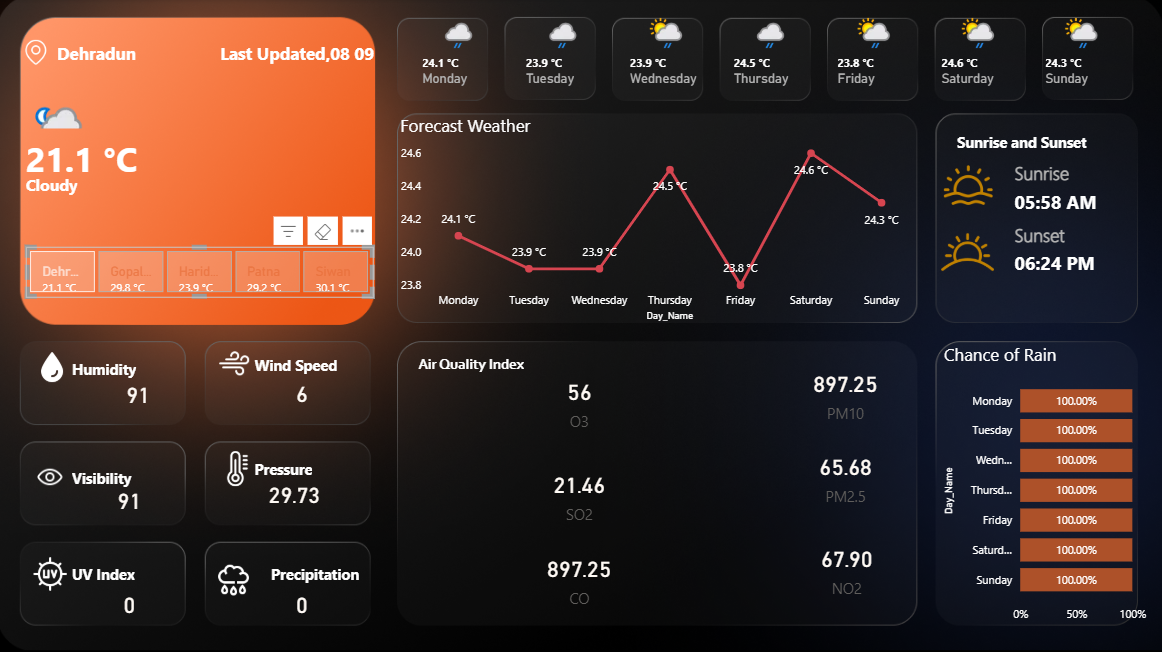

The page's visual inventory and layout, read from the dashboard file:
{"tool":"powerbi","page":{"name":"Page 1","canvas":[1280,720],"ordinal":0},"visuals":[{"type":"advancedSlicerVisual","fields":{"Values":["Locations.location.name"]},"box":[31.9,273.6,381.6,55.2],"z":0},{"type":"shape","box":[31.9,138.7,294.5,74.8],"z":1000},{"type":"shape","box":[31.9,186.5,282.2,36.8],"z":2000},{"type":"shape","box":[131.3,41.7,282.2,36.8],"z":3000},{"type":"shape","box":[66.3,41.7,282.2,36.8],"z":4000},{"type":"image","box":[18.4,41.7,50.3,36.8],"z":5000},{"type":"cardVisual","fields":{"Data":["Min(Current.current.condition.icon)"]},"box":[16,87.1,99.4,62.6],"z":6000},{"type":"image","box":[223.3,613.5,72.4,51.5],"z":7000},{"type":"image","box":[16,505.5,83.4,41.7],"z":8000},{"type":"shape","box":[82.2,508,282.2,36.8],"z":9000},{"type":"shape","box":[115.3,613.5,282.2,36.8],"z":10000},{"type":"image","box":[31.9,607.4,54,49.1],"z":11000},{"type":"image","box":[35.6,382.8,50.3,45.4],"z":12000},{"type":"image","box":[185.3,379.1,149.7,45.4],"z":13000},{"type":"image","box":[207.4,492,112.9,47.9],"z":14000},{"type":"shape","box":[82.2,613.5,282.2,36.8],"z":15000},{"type":"shape","box":[282.2,498.2,282.2,36.8],"z":16000},{"type":"shape","box":[82.2,387.7,282.2,36.8],"z":17000},{"type":"shape","box":[282.2,384.1,282.2,36.8],"z":18000},{"type":"card","fields":{"Values":["Sum(Current.current.humidity)"]},"box":[65.9,406.2,178.4,57.6],"z":19000},{"type":"card","fields":{"Values":["Sum(Current.current.pressure_in)"]},"box":[237.4,520.1,178.4,49.4],"z":20000},{"type":"card","fields":{"Values":["Sum(Current.current.uv)"]},"box":[56.3,638.1,178.4,56.3],"z":21000},{"type":"card","fields":{"Values":["Sum(Current.current.wind_kph)"]},"box":[245.6,406.2,178.4,56.3],"z":22000},{"type":"card","fields":{"Values":["Sum(Current.current.precip_in)"]},"box":[245.6,638.1,178.4,56.3],"z":23000},{"type":"card","fields":{"Values":["Sum(Current.current.humidity)"]},"box":[56.3,524.2,178.4,56.3],"z":24000},{"type":"advancedSlicerVisual","fields":{"Values":["Forcast_day.Day_Name"]},"box":[448.7,9.6,802.7,101.5],"z":25000},{"type":"lineChart","title":"Forecast Weather","fields":{"Y":["Sum(Forcast_day.forecast.forecastday.day.avgtemp_c)"],"Category":["Forcast_day.Day_Name"]},"box":[437.7,127.6,569.5,231.9],"z":26000},{"type":"shape","box":[1117,275.8,93.3,28.8],"z":27000},{"type":"shape","box":[1053.9,138.6,156.4,37],"z":28000},{"type":"shape","box":[1117,204.5,104.3,37],"z":29000},{"type":"shape","box":[1117,244.3,68.6,31.6],"z":30000},{"type":"shape","box":[1117,177,71.4,27.4],"z":31000},{"type":"image","box":[1022.3,204.5,86.4,149.6],"z":32000},{"type":"image","box":[1034.7,157.8,63.1,94.7],"z":33000},{"type":"hundredPercentStackedBarChart","title":"Chance of Rain","fields":{"Y":["Sum(Forcast_day.forecast.forecastday.day.daily_chance_of_rain)"],"Category":["Forcast_day.Day_Name"]},"box":[1034.7,378.7,231.9,315.6],"z":34000},{"type":"shape","box":[462.4,382.8,156.4,37],"z":35000},{"type":"card","fields":{"Values":["Sum(Current.current.air_quality.co)"]},"box":[885.1,395.2,93.1,78.4],"z":36000},{"type":"card","fields":{"Values":["Sum(Current.current.air_quality.pm2_5)"]},"box":[885.1,485.8,93.3,78.2],"z":37000},{"type":"card","fields":{"Values":["Sum(Current.current.air_quality.co)"]},"box":[592.8,598.3,93.3,78.2],"z":38000},{"type":"card","fields":{"Values":["Sum(Current.current.air_quality.so2)"]},"box":[592.8,506.3,93.1,76.8],"z":39000},{"type":"card","fields":{"Values":["Sum(Current.current.air_quality.o3)"]},"box":[592.8,405,93.1,76.8],"z":40000},{"type":"card","fields":{"Values":["Sum(Current.current.air_quality.no2)"]},"box":[886.8,587.9,93.1,78.4],"z":41000}]}

Visuals, with their boxes in screenshot pixels (x1, y1, x2, y2), scaled from the page's 1280x720 canvas onto the 1162x652 screenshot:
advancedSlicerVisual - Locations.location.name: [29, 248, 375, 298]
shape: [29, 126, 296, 193]
shape: [29, 169, 285, 202]
shape: [119, 38, 375, 71]
shape: [60, 38, 316, 71]
image: [17, 38, 62, 71]
cardVisual - Min(Current.current.condition.icon): [15, 79, 105, 136]
image: [203, 556, 268, 602]
image: [15, 458, 90, 496]
shape: [75, 460, 331, 493]
shape: [105, 556, 361, 589]
image: [29, 550, 78, 594]
image: [32, 347, 78, 388]
image: [168, 343, 304, 384]
image: [188, 446, 291, 489]
shape: [75, 556, 331, 589]
shape: [256, 451, 512, 484]
shape: [75, 351, 331, 384]
shape: [256, 348, 512, 381]
card - Sum(Current.current.humidity): [60, 368, 222, 420]
card - Sum(Current.current.pressure_in): [216, 471, 377, 516]
card - Sum(Current.current.uv): [51, 578, 213, 629]
card - Sum(Current.current.wind_kph): [223, 368, 385, 419]
card - Sum(Current.current.precip_in): [223, 578, 385, 629]
card - Sum(Current.current.humidity): [51, 475, 213, 526]
advancedSlicerVisual - Forcast_day.Day_Name: [407, 9, 1136, 101]
"Forecast Weather" lineChart: [397, 116, 914, 326]
shape: [1014, 250, 1099, 276]
shape: [957, 126, 1099, 159]
shape: [1014, 185, 1109, 219]
shape: [1014, 221, 1076, 250]
shape: [1014, 160, 1079, 185]
image: [928, 185, 1006, 321]
image: [939, 143, 997, 229]
"Chance of Rain" hundredPercentStackedBarChart: [939, 343, 1150, 629]
shape: [420, 347, 562, 380]
card - Sum(Current.current.air_quality.co): [804, 358, 888, 429]
card - Sum(Current.current.air_quality.pm2_5): [804, 440, 888, 511]
card - Sum(Current.current.air_quality.co): [538, 542, 623, 613]
card - Sum(Current.current.air_quality.so2): [538, 458, 623, 528]
card - Sum(Current.current.air_quality.o3): [538, 367, 623, 436]
card - Sum(Current.current.air_quality.no2): [805, 532, 890, 603]
